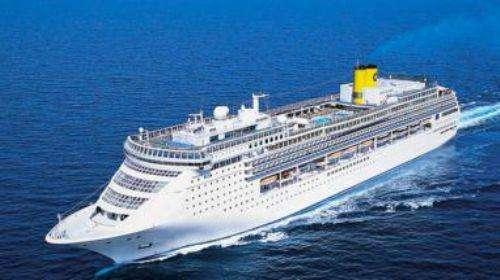youlun: (44, 59, 460, 262)
